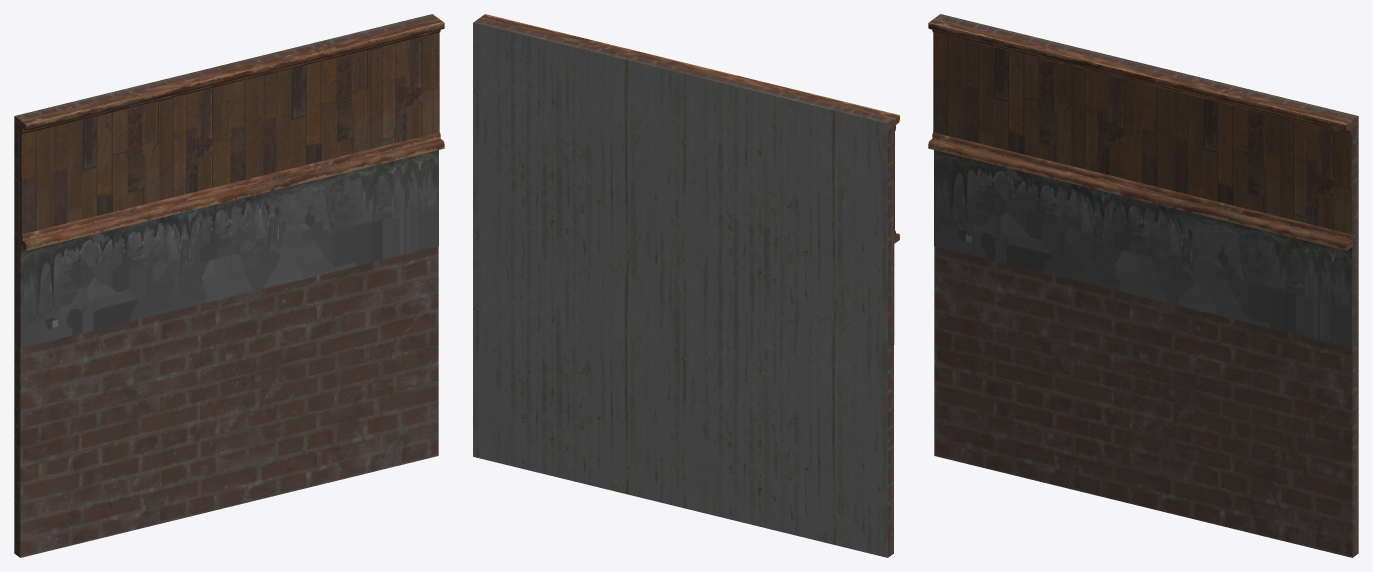
The model's file is Kit_BricksExtrude02.fbx.
The picture shows the model from 3 angles, left to right: view 1: azimuth 30°, elevation 25°; view 2: azimuth 150°, elevation 25°; view 3: azimuth 330°, elevation 25°; orthographic projection.
Parts seen in each view (by area): view 1: Kit_BricksExtrude02; view 2: Kit_BricksExtrude02; view 3: Kit_BricksExtrude02.
Part boxes in pixels (left/top/right/bottom): Kit_BricksExtrude02: left=14, top=14, right=444, bottom=557; Kit_BricksExtrude02: left=473, top=14, right=899, bottom=557; Kit_BricksExtrude02: left=928, top=14, right=1358, bottom=557.
Bounding box in the file's own units: 157 × 157 × 7.86.
